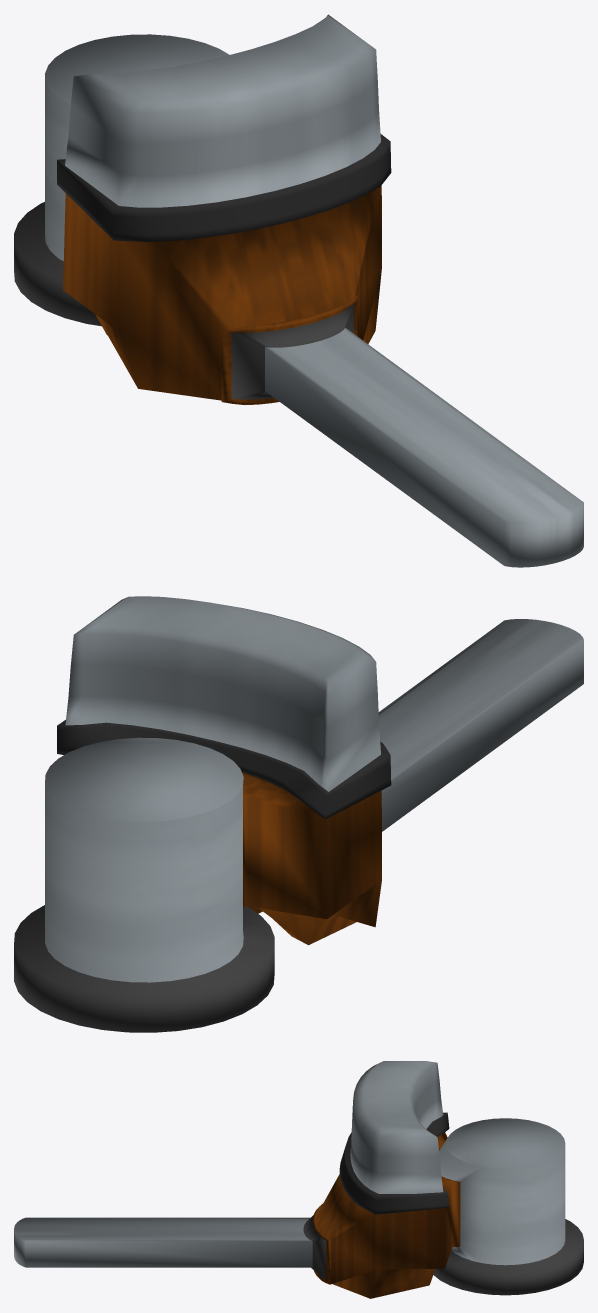
Rendered from OS_Hub_Wheel_Lower.obj.
The picture shows the model from 3 angles, top to bottom: view 1: azimuth 30°, elevation 25°; view 2: azimuth 150°, elevation 25°; view 3: azimuth 270°, elevation 25°; orthographic projection. The views are drawn at different scales.
Visible parts, largest first — view 1: Torus.005; view 2: Torus.005; view 3: Torus.005.
Boxes of the visible parts, x1,y1,x2,y2 form: Torus.005: (14,14,583,567); Torus.005: (14,596,583,1032); Torus.005: (14,1061,583,1298).
Size of the model in its own units: 0.7509 by 0.7904 by 2.23.
